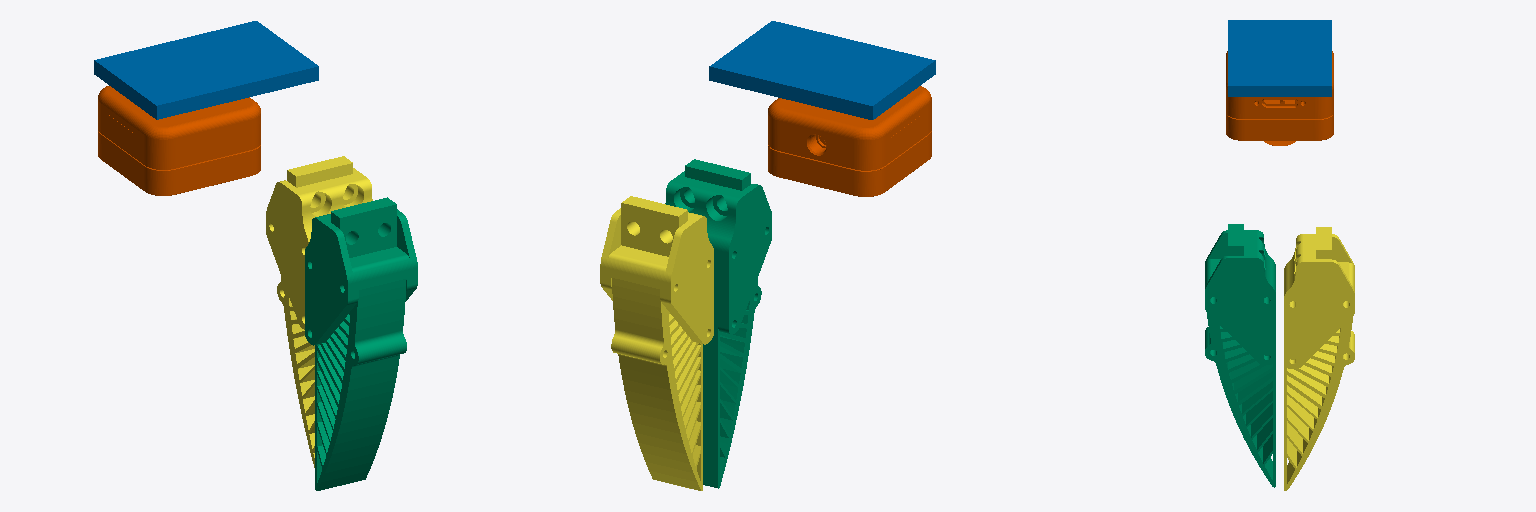
robot.urdf — panda_gripper:
<?xml version="1.0" encoding="utf-8"?>
<!-- Panda Gripper with Finray Fingers and Wrist Camera -->
<!-- Origin is at the end-effector frame (adjustable orientation) -->
<robot name="panda_gripper" xmlns:xacro="http://www.ros.org/wiki/xacro">

  <!-- Dummy base link for gripper (allows rotation of entire assembly) -->
  <link name="gripper_base">
    <inertial>
      <origin rpy="0 0 0" xyz="0.0 0.0 0.0"/>
      <mass value="0.001"/>
      <inertia ixx="1e-6" ixy="0.0" ixz="0.0" iyy="1e-6" iyz="0.0" izz="1e-6"/>
    </inertial>
  </link>

  <!-- Joint to rotate entire gripper assembly -->
  <joint name="gripper_base_to_hand" type="fixed">
    <parent link="gripper_base"/>
    <child link="panda_hand"/>
    <!-- ADJUST THIS to rotate entire gripper: rpy="roll pitch yaw" -->
    <origin rpy="0 3.141593 3.141593" xyz="0 0 0"/>
  </joint>

  <!-- panda_hand link (base of gripper) -->
  <link name="panda_hand">
    <inertial>
      <origin rpy="0 0 0" xyz="0.0 0.0 0.0"/>
      <mass value="0.67893"/>
      <inertia ixx="0.01" ixy="0.0" ixz="0.0" iyy="0.01" iyz="0.0" izz="0.01"/>
    </inertial>
    <visual>
      <origin rpy="0 0 0" xyz="0 0 0"/>
      <geometry>
        <mesh filename="package://panda_description/meshes/visual/hand.dae"/>
      </geometry>
    </visual>
    <collision>
      <origin rpy="0 0 0" xyz="0 0 0"/>
      <geometry>
        <mesh filename="package://panda_description/meshes/collision/hand.stl"/>
      </geometry>
    </collision>
  </link>

  <!-- Left Finray Finger -->
  <link name="panda_leftfinger">
    <inertial>
      <origin rpy="0 0 0" xyz="0.0 0.0 0.0"/>
      <mass value="0.01053"/>
      <inertia ixx="0.001" ixy="0.0" ixz="0.0" iyy="0.001" iyz="0.0" izz="0.001"/>
    </inertial>
    <visual>
      <geometry>
        <mesh filename="package://panda_description/meshes/visual/finray.dae" scale="0.001 0.001 0.001"/>
      </geometry>
    </visual>
    <collision>
      <geometry>
        <mesh filename="package://panda_description/meshes/collision/finger.stl"/>
      </geometry>
    </collision>
  </link>

  <!-- Right Finray Finger -->
  <link name="panda_rightfinger">
    <inertial>
      <origin rpy="0 0 0" xyz="0.0 0.0 0.0"/>
      <mass value="0.01053"/>
      <inertia ixx="0.001" ixy="0.0" ixz="0.0" iyy="0.001" iyz="0.0" izz="0.001"/>
    </inertial>
    <visual>
      <origin rpy="0 0 3.14159265359" xyz="0 0 0"/>
      <geometry>
        <mesh filename="package://panda_description/meshes/visual/finray.dae" scale="0.001 0.001 0.001"/>
      </geometry>
    </visual>
    <collision>
      <origin rpy="0 0 3.14159265359" xyz="0 0 0"/>
      <geometry>
        <mesh filename="package://panda_description/meshes/collision/finger.stl"/>
      </geometry>
    </collision>
  </link>

  <!-- Wrist Camera Box (manually created mount) -->
  <link name="panda_wrist_cam_box">
    <inertial>
      <origin xyz="0 0 0" rpy="0 0 0"/>
      <mass value="0.05"/>
      <inertia ixx="1e-4" ixy="0" ixz="0" iyy="1e-4" iyz="0" izz="1e-4"/>
    </inertial>
    <visual>
      <origin xyz="0 0 0" rpy="0 0 0"/>
      <geometry>
        <box size="0.06 0.04 0.005"/>
      </geometry>
    </visual>
    <collision>
      <origin xyz="0 0 0" rpy="0 0 0"/>
      <geometry>
        <box size="0.06 0.04 0.005"/>
      </geometry>
    </collision>
  </link>

  <!-- Wrist Camera Link (actual camera with mesh) -->
  <link name="panda_wrist_cam">
    <inertial>
      <origin xyz="0 0 0" rpy="0 0 0"/>
      <mass value="0.03"/>
      <inertia ixx="1e-5" ixy="0" ixz="0" iyy="1e-5" iyz="0" izz="1e-5"/>
    </inertial>
    <visual>
      <origin xyz="0 0 0" rpy="0 0 0"/>
      <geometry>
        <mesh filename="package://panda_description/meshes/visual/wrist_cam.dae" scale="0.001 0.001 0.001"/>
      </geometry>
    </visual>
    <collision>
      <origin xyz="0 0 0" rpy="0 0 0"/>
      <geometry>
        <mesh filename="package://panda_description/meshes/collision/wrist_cam.stl" scale="0.001 0.001 0.001"/>
      </geometry>
    </collision>
  </link>

  <!-- Joints -->
  <joint name="panda_finger_joint1" type="prismatic">
    <parent link="panda_hand"/>
    <child link="panda_leftfinger"/>
    <origin rpy="0 0 0" xyz="0 0 0.0684"/>
    <axis xyz="0 1 0"/>
    <limit effort="20" lower="0.0" upper="0.04" velocity="0.2"/>
  </joint>

  <joint name="panda_finger_joint2" type="prismatic">
    <parent link="panda_hand"/>
    <child link="panda_rightfinger"/>
    <origin rpy="0 0 0" xyz="0 0 0.0684"/>
    <axis xyz="0 -1 0"/>
    <limit effort="20" lower="0.0" upper="0.04" velocity="0.2"/>
    <mimic joint="panda_finger_joint1"/>
  </joint>

  <!-- Joint: panda_hand to wrist camera box -->
  <joint name="panda_wrist_cam_box_joint" type="fixed">
    <!-- CUSTOMIZE THIS: Position of the box mount relative to panda_hand -->
    <origin xyz="-0.05 0 0.00" rpy="0 0 0"/>
    <parent link="panda_hand"/>
    <child link="panda_wrist_cam_box"/>
  </joint>

  <!-- Joint: camera box to actual camera -->
  <joint name="panda_wrist_cam_joint" type="fixed">
    <!-- CUSTOMIZE THIS: Position of camera relative to the box center
         Default: camera is at the bottom center of the box (z = -0.015) -->
    <origin xyz="-0.01 0 0.03" rpy="0 0 0"/>
    <parent link="panda_wrist_cam_box"/>
    <child link="panda_wrist_cam"/>
  </joint>

</robot>

--- Facts derived from the render (not from the file) ---
The picture shows the robot from 3 angles, left to right: view 1: azimuth 30°, elevation 25°; view 2: azimuth 150°, elevation 25°; view 3: azimuth 270°, elevation 25°; orthographic projection.
Robot: panda_gripper — 6 links, 5 joints (2 prismatic, 3 fixed); root link gripper_base; default pose: every joint at zero.
Visible links, largest first — view 1: panda_leftfinger, panda_wrist_cam_box, panda_wrist_cam, panda_rightfinger; view 2: panda_rightfinger, panda_leftfinger, panda_wrist_cam_box, panda_wrist_cam; view 3: panda_rightfinger, panda_leftfinger, panda_wrist_cam_box, panda_wrist_cam.
Boxes of the visible links, bbox=[...] form: panda_leftfinger: bbox=[305, 197, 417, 490]; panda_wrist_cam_box: bbox=[94, 21, 318, 119]; panda_wrist_cam: bbox=[98, 86, 260, 195]; panda_rightfinger: bbox=[266, 156, 372, 467]; panda_rightfinger: bbox=[600, 196, 713, 490]; panda_leftfinger: bbox=[665, 159, 771, 488]; panda_wrist_cam_box: bbox=[709, 21, 935, 119]; panda_wrist_cam: bbox=[768, 86, 931, 196]; panda_rightfinger: bbox=[1284, 227, 1354, 490]; panda_leftfinger: bbox=[1205, 224, 1275, 487]; panda_wrist_cam_box: bbox=[1228, 20, 1331, 96]; panda_wrist_cam: bbox=[1226, 51, 1333, 145].
Bounding box of the posed robot: 0.0958 × 0.0585 × 0.1594 m (x, y, z).
3 mesh visuals loaded from 3 distinct referenced files (2 Collada DAE); not drawn: 1 (reference not matched to a file when rendering).
